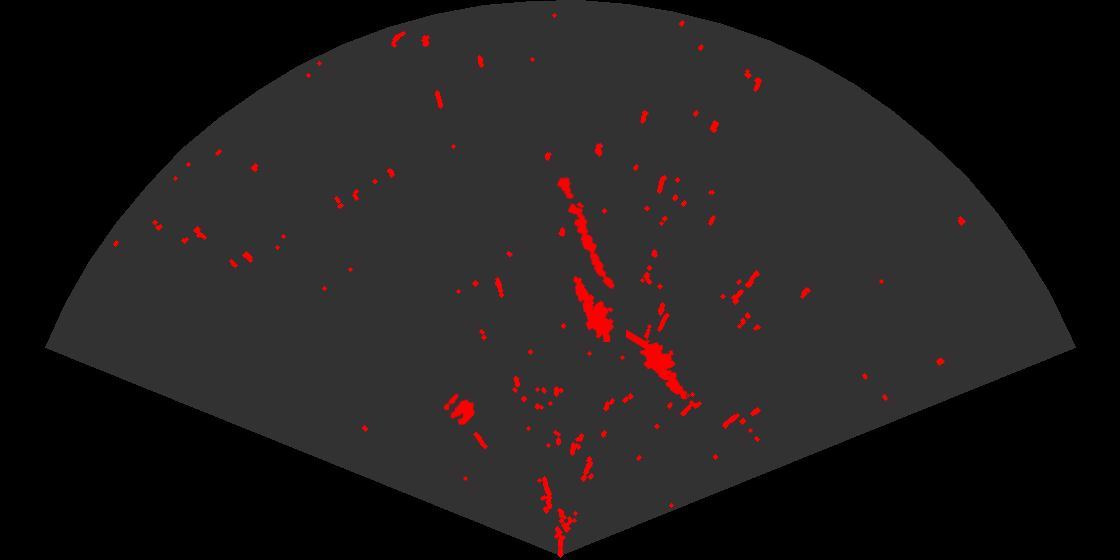ball: (442, 392, 477, 427)
chain: (555, 175, 616, 291)
frogman: (626, 330, 689, 401), (572, 274, 615, 342)
